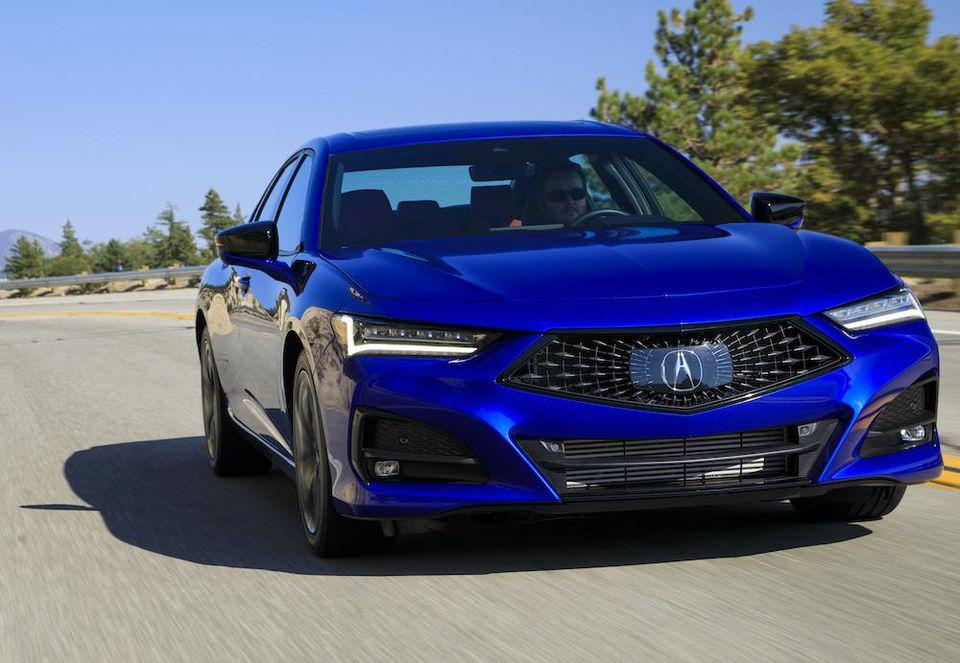car: (184, 116, 945, 563)
